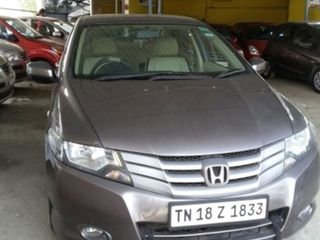T: (174, 207, 184, 225)
